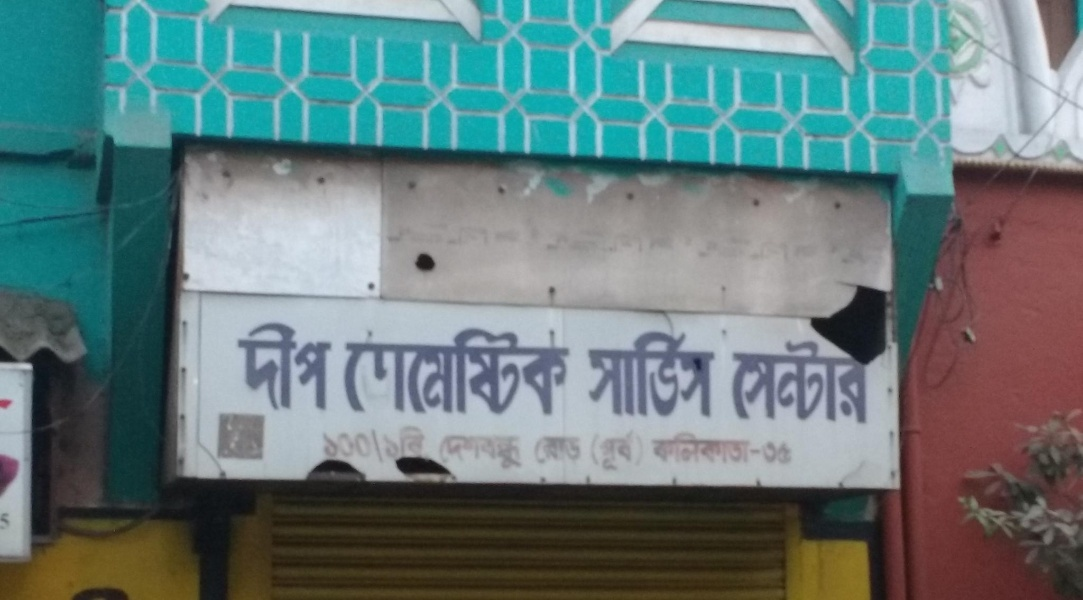text: (353, 320, 368, 422), (369, 320, 384, 422), (385, 320, 400, 422), (401, 320, 416, 422), (417, 320, 432, 422), (433, 320, 448, 422), (449, 320, 464, 422), (465, 320, 480, 422), (481, 320, 496, 422), (497, 320, 512, 422), (513, 320, 528, 422), (529, 320, 544, 422), (545, 320, 560, 422), (241, 320, 256, 413), (257, 320, 272, 413), (273, 320, 288, 413), (289, 320, 304, 413), (305, 320, 320, 413), (593, 330, 608, 421), (609, 330, 624, 421), (625, 330, 640, 421), (641, 330, 656, 421), (657, 330, 672, 421), (673, 330, 688, 421), (689, 330, 704, 421), (705, 330, 720, 421), (561, 320, 574, 422), (737, 338, 752, 424), (753, 338, 768, 424), (769, 338, 784, 424), (785, 338, 800, 424), (801, 338, 816, 424), (817, 338, 832, 424), (833, 338, 848, 424), (849, 338, 864, 424), (321, 320, 334, 413), (344, 320, 352, 422), (321, 421, 336, 466), (337, 421, 352, 466), (353, 421, 368, 466), (369, 421, 384, 466), (385, 421, 400, 466), (401, 421, 416, 466), (657, 430, 672, 475), (673, 430, 688, 475), (689, 430, 704, 475), (705, 430, 720, 475), (721, 430, 736, 475), (737, 430, 752, 475), (593, 429, 608, 473), (609, 429, 624, 473), (625, 429, 640, 473), (417, 421, 429, 466), (449, 435, 464, 471), (465, 435, 480, 471), (481, 435, 496, 471), (497, 435, 512, 471), (513, 435, 528, 471), (753, 430, 765, 475), (865, 338, 871, 424), (235, 320, 240, 413), (769, 436, 784, 467), (545, 436, 560, 466), (561, 436, 576, 466), (436, 435, 448, 471), (731, 338, 736, 424), (785, 436, 797, 467), (533, 436, 544, 466), (760, 436, 768, 467), (651, 430, 656, 475), (641, 429, 646, 473), (577, 436, 582, 466), (591, 330, 592, 421), (721, 330, 722, 421)
